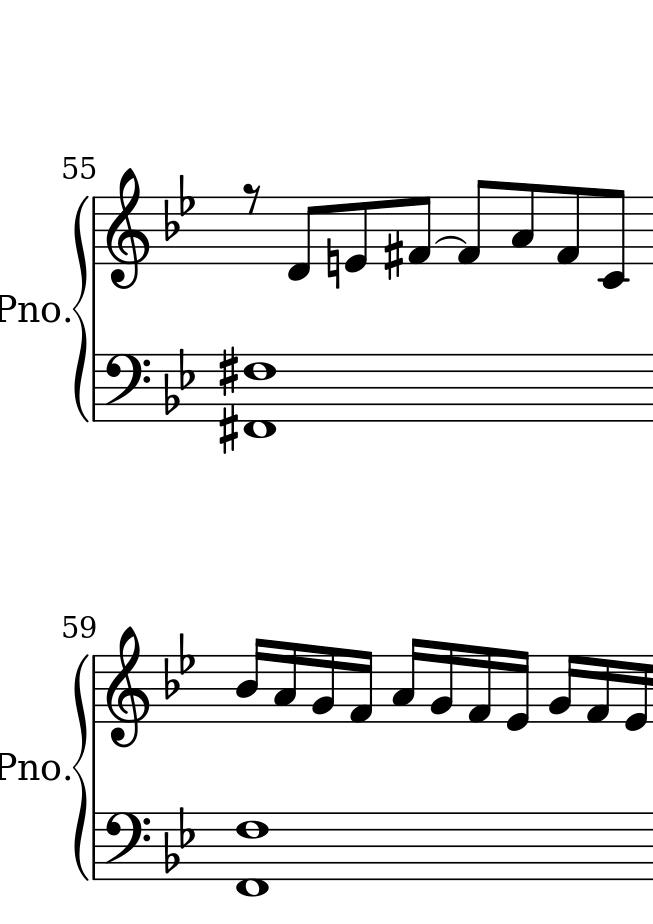16_0: (503, 647, 532, 734), (621, 652, 650, 734)
16_1: (464, 644, 494, 725), (345, 647, 374, 726), (585, 653, 613, 726)
16_2: (548, 653, 581, 725), (310, 643, 338, 727), (429, 639, 457, 723)
16_3: (389, 638, 425, 723), (272, 640, 299, 725)
16_4: (234, 637, 268, 724)
1_-1_6: (242, 352, 280, 438), (232, 811, 270, 897)
5: (78, 154, 97, 182), (60, 154, 78, 183), (62, 611, 78, 643)
8_-1: (287, 194, 318, 282)
8_-2: (601, 186, 628, 292)
8_0: (344, 194, 371, 274)
8_1: (456, 177, 492, 265), (552, 186, 583, 266), (408, 194, 434, 267)
8_3: (509, 181, 538, 265)
9: (79, 610, 96, 641)
B_F: (162, 628, 196, 700), (162, 804, 196, 875), (163, 174, 197, 244), (161, 347, 194, 413)
Brace: (71, 652, 93, 882), (71, 195, 91, 423)
Fclef: (101, 350, 153, 404), (103, 813, 153, 868)
Gclef: (106, 162, 152, 292), (105, 626, 153, 749)
Natural: (325, 237, 341, 290)
Pno: (1, 750, 64, 783), (1, 292, 62, 323)
Rests8: (239, 180, 268, 218)
Sharp: (217, 346, 241, 398), (383, 229, 406, 281), (219, 404, 241, 456)
Single_barline: (87, 196, 102, 264), (88, 653, 102, 724), (88, 813, 102, 881), (88, 354, 102, 422)
Slur: (432, 235, 468, 246)
